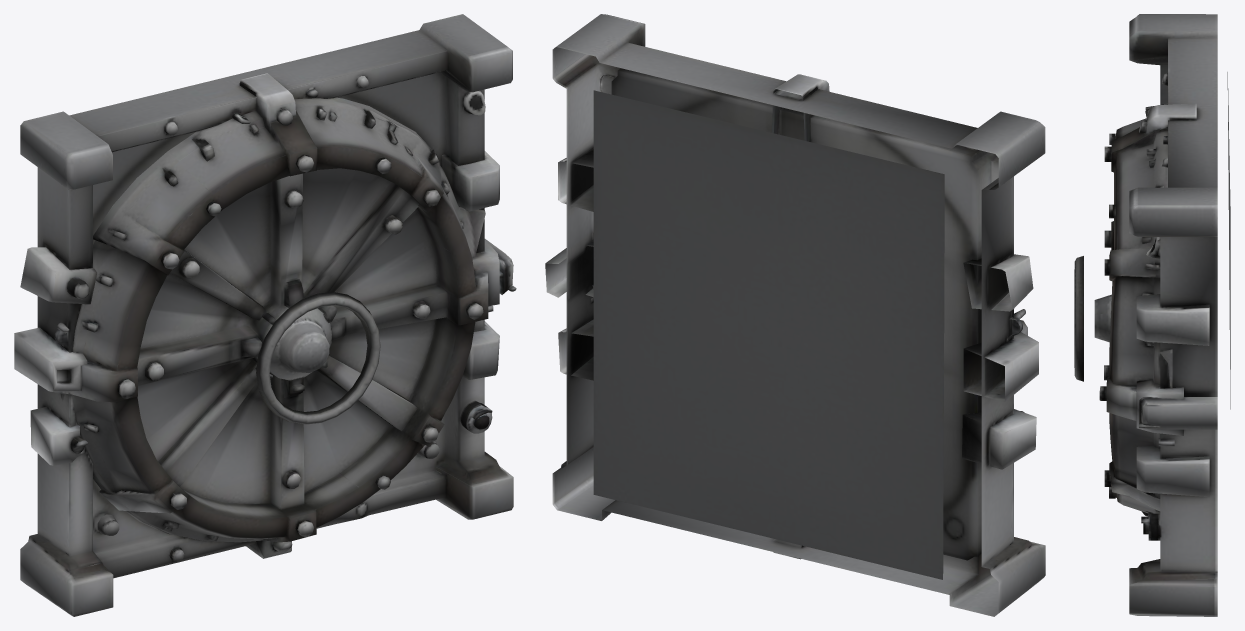
Rendered from Bank_VaultDoor.glb.
The picture shows the model from 3 angles, left to right: view 1: azimuth 30°, elevation 25°; view 2: azimuth 150°, elevation 25°; view 3: azimuth 270°, elevation 25°; orthographic projection. The views are drawn at different scales.
Parts seen in each view (by area): view 1: tripo_node_480620d8-4120-4f10-b14e-9002cdd3efa6; view 2: tripo_node_480620d8-4120-4f10-b14e-9002cdd3efa6; view 3: tripo_node_480620d8-4120-4f10-b14e-9002cdd3efa6.
Boxes of the visible parts, x1,y1,x2,y2 form: tripo_node_480620d8-4120-4f10-b14e-9002cdd3efa6: (14, 14, 516, 616); tripo_node_480620d8-4120-4f10-b14e-9002cdd3efa6: (545, 14, 1045, 616); tripo_node_480620d8-4120-4f10-b14e-9002cdd3efa6: (1074, 14, 1230, 616).
Bounding box in the file's own units: 1 × 0.9609 × 0.3298.
1 material, 1 textured.
